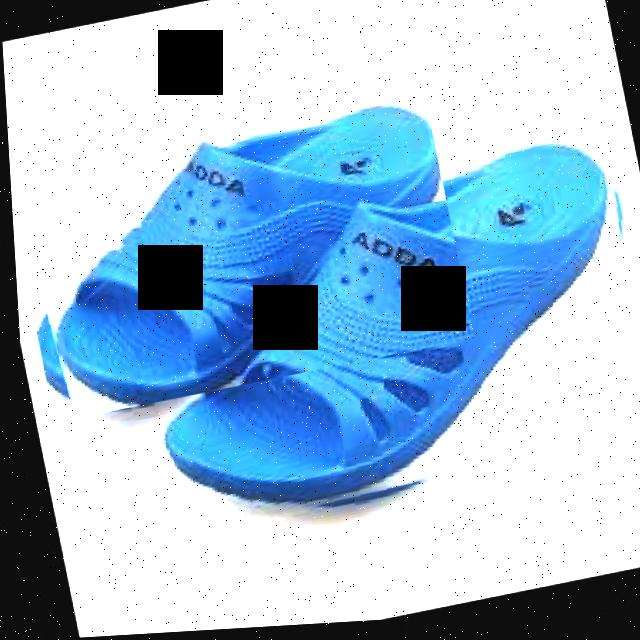shoe: (4, 62, 640, 566), (5, 91, 473, 423)
